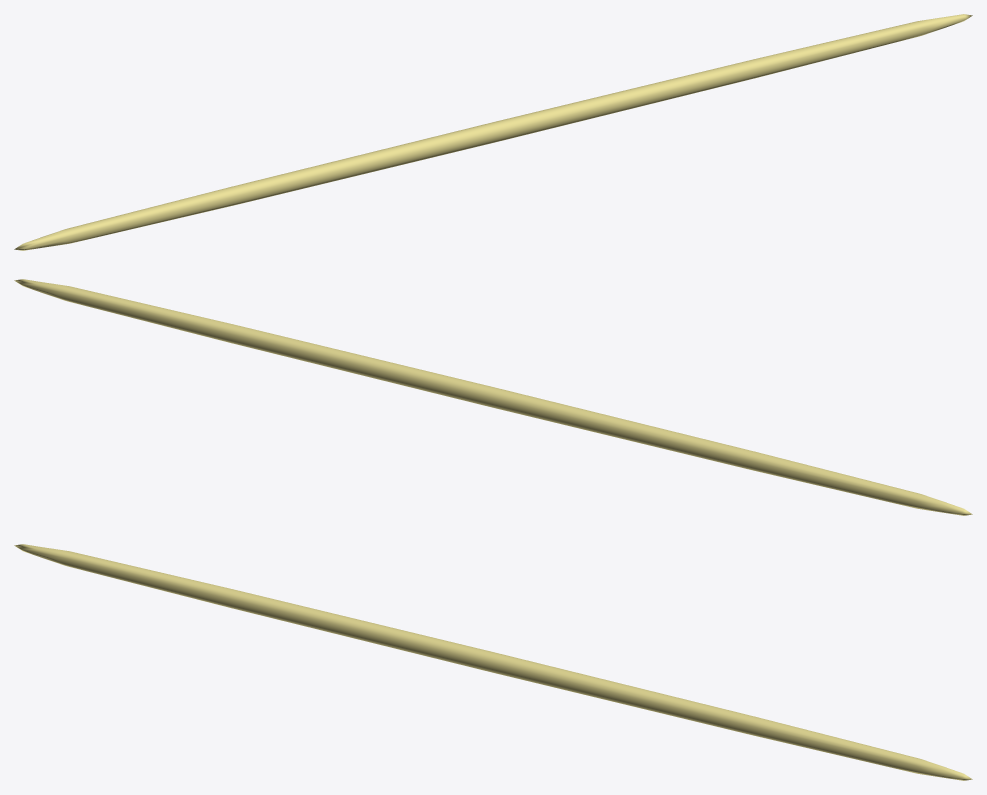
File: lightBeam.fbx
The picture shows the model from 3 angles, top to bottom: view 1: azimuth 30°, elevation 25°; view 2: azimuth 150°, elevation 25°; view 3: azimuth 330°, elevation 25°; orthographic projection.
Parts seen in each view (by area): view 1: pCube12; view 2: pCube12; view 3: pCube12.
Boxes of the visible parts, x1,y1,x2,y2 form: pCube12: (14, 14, 972, 250); pCube12: (14, 279, 972, 515); pCube12: (14, 544, 972, 780).
Bounding box in the file's own units: 390 × 7.03 × 7.03.
